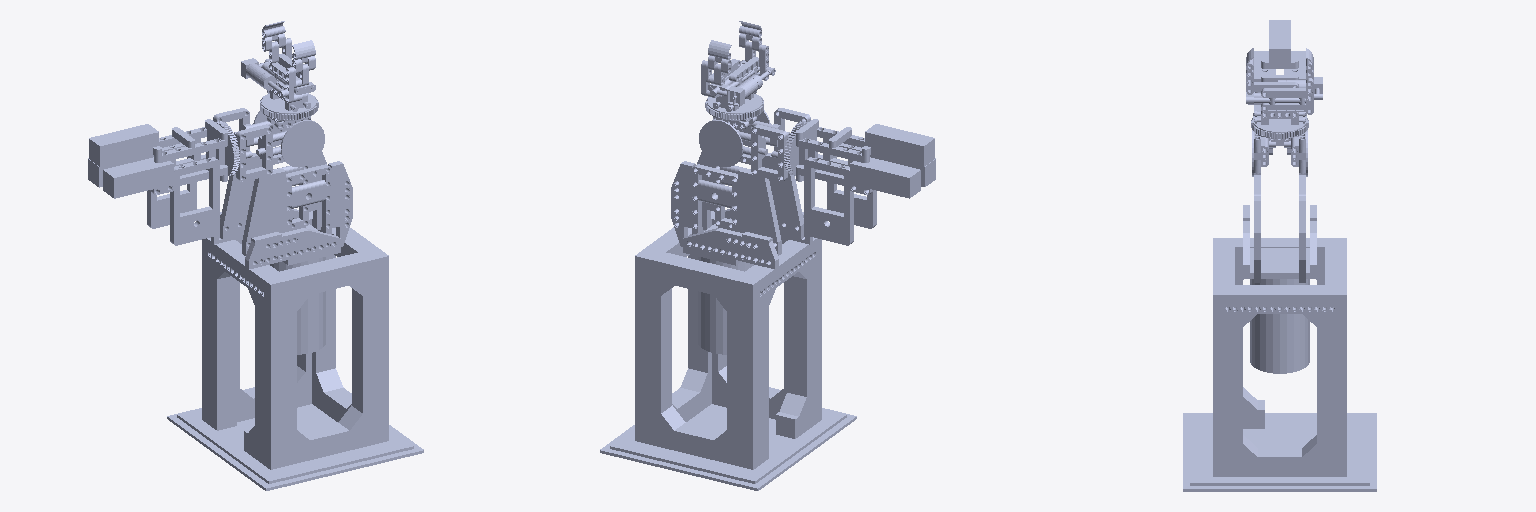
The robot description file, URDF, robot "Ensamblaje":

<!-- This URDF was automatically created by SolidWorks to URDF Exporter! Originally created by Stephen Brawner (brawner@gmail.com) 
     Commit Version: 1.6.0-4-g7f85cfe  Build Version: 1.6.7995.38578
     For more information, please see http://wiki.ros.org/sw_urdf_exporter -->
<robot
  name="Ensamblaje">
  <link
    name="base_link">
    <inertial>
      <origin
        xyz="-0.00143297289781318 0.0972210837988271 -0.000335529749456606"
        rpy="0 0 0" />
      <mass
        value="1.42294386942817" />
      <inertia
        ixx="0.0132216509073776"
        ixy="-0.000158652293415826"
        ixz="2.93305585803312E-05"
        iyy="0.00845457151334573"
        iyz="-3.60565302489095E-05"
        izz="0.0129735358835948" />
    </inertial>
    <visual>
      <origin
        xyz="0 0 0"
        rpy="1.5708 0 1.5708" />
      <geometry>
        <mesh
          filename="package://lego/meshes/visual/base_link.dae" />
      </geometry>
      <material
        name="">
        <color
          rgba="0.792156862745098 0.819607843137255 0.933333333333333 1" />
      </material>
    </visual>
    <collision>
      <origin
        xyz="0 0 0"
        rpy="0 0 3.1416" />
      <geometry>
        <mesh
          filename="package://lego/meshes/collision/base_link.STL" />
      </geometry>
    </collision>
  </link>
  <link
    name="BaseMovil">
    <inertial>
      <origin
        xyz="-1.28282331534233E-16 -0.134703164389748 0.0119579386369056"
        rpy="0 0 0" />
      <mass
        value="0.242867568745409" />
      <inertia
        ixx="0.000808764810710543"
        ixy="-6.07751799568124E-19"
        ixz="1.49951441249629E-18"
        iyy="0.00036925218578822"
        iyz="6.19221462787169E-05"
        izz="0.000663376584846465" />
    </inertial>
    <visual>
      <origin
        xyz="0 0 0"
        rpy="0 -1.5708 3.1416" />
      <geometry>
        <mesh
          filename="package://lego/meshes/visual/BaseMovil.dae" />
      </geometry>
      <material
        name="">
        <color
          rgba="0.792156862745098 0.819607843137255 0.933333333333333 1" />
      </material>
    </visual>
    <collision>
      <origin
        xyz="0 0 0"
        rpy="0 3.1416 0" />
      <geometry>
        <mesh
          filename="package://lego/meshes/collision/BaseMovil.STL" />        
      </geometry>
    </collision>
  </link>
  <joint
    name="Joint1"
    type="revolute">
    <origin
      xyz="0 0 0.1089"
      rpy="-1.5708 0 -1.5708" />
    <parent
      link="base_link" />
    <child
      link="BaseMovil" />
    <axis
      xyz="0 1 0" />
    <limit
      lower="-3.1416"
      upper="3.1416"
      effort="0"
      velocity="-3.1416" />
    <dynamics damping="2.0" friction="0.5"/>            
  </joint>
  <link
    name="Brazo">
    <inertial>
      <origin
        xyz="-2.64184148787479E-08 0.0827271120551161 -1.86361570064797E-08"
        rpy="0 0 0" />
      <mass
        value="0.157608523774481" />
      <inertia
        ixx="0.000429191341144751"
        ixy="2.04753294618092E-10"
        ixz="-1.3155808410927E-10"
        iyy="0.000289324520057458"
        iyz="3.47389335865343E-10"
        izz="0.000639613496156974" />
    </inertial>
    <visual>
      <origin
        xyz="0 0 0"
        rpy="1.5708 0 1.5708" />
      <geometry>
        <mesh
          filename="package://lego/meshes/visual/Brazo.dae" />
      </geometry>
      <material
        name="">
        <color
          rgba="0.792156862745098 0.819607843137255 0.933333333333333 1" />
      </material>
    </visual>
    <collision>
      <origin
        xyz="0 0 0"
        rpy="1.5708 0 0" />
      <geometry>
        <mesh
          filename="package://lego/meshes/collision/Brazo.STL" />
      </geometry>
    </collision>
  </link>
  <joint
    name="Joint2"
    type="revolute">
    <origin
      xyz="0 -0.1801 0"
      rpy="-3.1416 0 -3.1416" />
    <parent
      link="BaseMovil" />
    <child
      link="Brazo" />
    <axis
      xyz="1 0 0" />
    <limit
      lower="0"
      upper="3.1416"
      effort="0"
      velocity="3.141" />
    <dynamics damping="2.0" friction="0.5"/>            
  </joint>
  <link
    name="AnteBrazo">
    <inertial>
      <origin
        xyz="-0.0365667497746823 0.0598651764142495 1.20154548090383E-15"
        rpy="0 0 0" />
      <mass
        value="0.216310329191895" />
      <inertia
        ixx="0.000264607052882941"
        ixy="0.000127628052151096"
        ixz="2.22003743787601E-18"
        iyy="0.000442094670964451"
        iyz="-9.42644384625411E-19"
        izz="0.000578578112922437" />
    </inertial>
    <visual>
      <origin
        xyz="0 0 0"
        rpy="0 0 0" />
      <geometry>
        <mesh
          filename="package://lego/meshes/visual/AnteBrazo.dae" />
      </geometry>
      <material
        name="">
        <color
          rgba="0.792156862745098 0.819607843137255 0.933333333333333 1" />
      </material>
    </visual>
    <collision>
      <origin
        xyz="0 0 0"
        rpy="0 1.5708 0" />
      <geometry>
        <mesh
          filename="package://lego/meshes/collision/AnteBrazo.STL" />
      </geometry>
    </collision>
  </link>
  <joint
    name="Joint3"
    type="revolute">
    <origin
      xyz="0 0 0.136"
      rpy="3.1416 3.1416 0" />
    <parent
      link="Brazo" />
    <child
      link="AnteBrazo" />
    <axis
      xyz="-1 0 0" />
    <limit
      lower="-3.1416"
      upper="0"
      effort="0"
      velocity="3.1416" />
    <dynamics damping="2.0" friction="0.5"/>      
  </joint>
  <link
    name="Munieca">
    <inertial>
      <origin
        xyz="0.0452141820603019 0.000225887659027313 0.00200000000000258"
        rpy="0 0 0" />
      <mass
        value="0.0758287405516436" />
      <inertia
        ixx="4.76404035653544E-05"
        ixy="7.14512909325067E-07"
        ixz="3.70854664888897E-19"
        iyy="0.000121899293592062"
        iyz="-1.61046859911085E-20"
        izz="0.000101681570321121" />
    </inertial>
    <visual>
      <origin
        xyz="0 0 0"
        rpy="0 0 0" />
      <geometry>
        <mesh
          filename="package://lego/meshes/visual/Munieca.dae" />
      </geometry>
      <material
        name="">
        <color
          rgba="0.792156862745098 0.819607843137255 0.933333333333333 1" />
      </material>
    </visual>
    <collision>
      <origin
        xyz="-0.002 0 0"
        rpy="0 1.5708 0" />
      <geometry>
        <mesh
          filename="package://lego/meshes/collision/Munieca.STL" />  
      </geometry>
    </collision>
  </link>
  <joint
    name="Joint4"
    type="revolute">
    <origin
      xyz="0 0.064 -0.045"
      rpy="0 0 0" />
    <parent
      link="AnteBrazo" />
    <child
      link="Munieca" />
    <axis
      xyz="0 0 1" />
    <limit
      lower="-1.5708"
      upper="1.5708"
      effort="0"
      velocity="1.5708" />
    <dynamics damping="2.0" friction="0.5"/>      
  </joint>
  <link
    name="Mano">
    <inertial>
      <origin
        xyz="-5.20417042793042E-17 0.00199999999999855 0.0208560522689041"
        rpy="0 0 0" />
      <mass
        value="0.0133403749579747" />
      <inertia
        ixx="1.82483410767168E-06"
        ixy="2.17296469508656E-22"
        ixz="1.87218350196537E-20"
        iyy="2.56171126779421E-06"
        iyz="5.05134272654301E-22"
        izz="3.15031472875163E-06" />
    </inertial>
    <visual>
      <origin
        xyz="0 0 0"
        rpy="0 -1.5708 0" />
      <geometry>
        <mesh
          filename="package://lego/meshes/visual/Mano.dae" />
      </geometry>
      <material
        name="">
        <color
          rgba="0.792156862745098 0.819607843137255 0.933333333333333 1" />
      </material>
    </visual>
    <collision>
      <origin
        xyz="0 0 0"
        rpy="0 0 0" />
      <geometry>
        <mesh
          filename="package://lego/meshes/collision/Mano.STL" />          
      </geometry>
    </collision>
  </link>
  <joint
    name="Joint5"
    type="revolute">
    <origin
      xyz="0 0 -0.083"
      rpy="1.5708 1.5708 3.1416" />
    <parent
      link="Munieca" />
    <child
      link="Mano" />
    <axis
      xyz="0 1 0" />
    <limit
      lower="0"
      upper="3.1416"
      effort="0"
      velocity="3.1416" />
    <dynamics damping="2.0" friction="0.5"/>            
  </joint>
  <link
    name="Pinza">
    <inertial>
      <origin
        xyz="0.0178763129048624 -0.00468246862579161 0"
        rpy="0 0 0" />
      <mass
        value="0.0460205290916002" />
      <inertia
        ixx="2.65578193912434E-05"
        ixy="3.68997691913354E-06"
        ixz="-3.68478392364538E-06"
        iyy="2.66633549930463E-05"
        iyz="3.76555413744802E-06"
        izz="1.92865208127899E-05" />
    </inertial>
    <visual>
      <origin
        xyz="0 0 0"
        rpy="0 1.5708 3.1416" />
      <geometry>
        <mesh
          filename="package://lego/meshes/visual/Pinza.dae" />
      </geometry>
      <material
        name="">
        <color
          rgba="0.792156862745098 0.819607843137255 0.933333333333333 1" />
      </material>
    </visual>
    <collision>
      <origin
        xyz="0 0 0"
        rpy="3.1416 0 0" />
      <geometry>
        <mesh
          filename="package://lego/meshes/collision/Pinza.STL" />
      </geometry>
    </collision>
  </link>
  <joint
    name="Joint6"
    type="revolute">
    <origin
      xyz="0 0 0.029"
      rpy="1.5708 -1.5708 0" />
    <parent
      link="Mano" />
    <child
      link="Pinza" />
    <axis
      xyz="1 0 0" />
    <limit
      lower="-1.5708"
      upper="1.5708"
      effort="0"
      velocity="1.5708" />
  <dynamics damping="2.0" friction="0.5"/>            
  </joint>
  <link
    name="Dedo1">
    <inertial>
      <origin
        xyz="0.0178763129048624 -0.00468246862579161 0.00467588148839063"
        rpy="0 0 0" />
      <mass
        value="0.0460205290916002" />
      <inertia
        ixx="2.65578193912434E-05"
        ixy="3.68997691913354E-06"
        ixz="-3.68478392364537E-06"
        iyy="2.66633549930463E-05"
        iyz="3.76555413744802E-06"
        izz="1.92865208127899E-05" />
    </inertial>
    <visual>
      <origin
        xyz="0 0.00846 0"
        rpy="-1.5708 3.1416 -1.5708" />
      <geometry>
        <mesh
          filename="package://lego/meshes/visual/Dedo1.dae" />
      </geometry>
      <material
        name="">
        <color
          rgba="0.792156862745098 0.819607843137255 0.933333333333333 1" />
      </material>
    </visual>
    <collision>
      <origin
        xyz="0 0.008 0.024"
        rpy="0 -1.5708 1.5708" />
      <geometry>
        <mesh
          filename="package://lego/meshes/collision/Dedo2.STL" />        
      </geometry>
    </collision>
  </link>
  <joint
    name="Joint7"
    type="prismatic">
    <origin
      xyz="0.035 0 -0.008"
      rpy="0 0 0" />
    <parent
      link="Pinza" />
    <child
      link="Dedo1" />
    <axis
      xyz="0 0 -1" />
    <limit
      lower="0"
      upper="0.016"
      effort="0"
      velocity="0.016" />
  </joint>
  <link
    name="Dedo2">
    <inertial>
      <origin
        xyz="0.00419946676985444 -0.0109693363746826 0.00161600585191003"
        rpy="0 0 0" />
      <mass
        value="0.0118311180278391" />
      <inertia
        ixx="3.6595012348337E-06"
        ixy="1.53512779026541E-06"
        ixz="-1.60655311667269E-07"
        iyy="3.58310500961816E-06"
        iyz="5.82152912022735E-07"
        izz="6.23211599514572E-06" />
    </inertial>
    <visual>
      <origin
        xyz="0 -0.008 -0.008"
        rpy="0 1.5708 0" />
      <geometry>
        <mesh
          filename="package://lego/meshes/visual/Dedo2.dae" />
      </geometry>
      <material
        name="">
        <color
          rgba="0.792156862745098 0.819607843137255 0.933333333333333 1" />
      </material>
    </visual>
    <collision>
      <origin
        xyz="0 0.016 -0.008"
        rpy="0 0 1.570" />
      <geometry>
        <mesh
          filename="package://lego/meshes/collision/Dedo2.STL" />
      </geometry>
    </collision>
  </link>
  <joint
    name="Joint8"
    type="prismatic">
    <origin
      xyz="0.035 0 0"
      rpy="1.5708 3.1416 3.1416" />
    <parent
      link="Pinza" />
    <child
      link="Dedo2" />
    <axis
      xyz="0 -1 0" />
    <limit
      lower="0"
      upper="0.016"
      effort="0"
      velocity="0.016" />
  </joint>


</robot>

--- Facts derived from the render (not from the file) ---
Views: 3 orthographic renders of the robot side by side, from view 1: azimuth 30°, elevation 25°; view 2: azimuth 150°, elevation 25°; view 3: azimuth 270°, elevation 25°.
Model Ensamblaje with 9 links and 8 joints (6 revolute, 2 prismatic), rooted at base_link, posed all joints at 0.
Visible links, largest first — view 1: base_link, BaseMovil, AnteBrazo, Munieca, Pinza, Dedo1, Dedo2; view 2: base_link, BaseMovil, AnteBrazo, Munieca, Pinza, Dedo1, Dedo2; view 3: base_link, BaseMovil, AnteBrazo, Pinza, Dedo2, Munieca, Dedo1.
Link boxes in pixels (left/top/right/bottom): base_link: left=167, top=211, right=423, bottom=490; BaseMovil: left=211, top=152, right=352, bottom=354; AnteBrazo: left=88, top=119, right=227, bottom=245; Munieca: left=213, top=108, right=324, bottom=181; Pinza: left=241, top=58, right=318, bottom=119; Dedo1: left=268, top=40, right=315, bottom=102; Dedo2: left=262, top=21, right=298, bottom=77; base_link: left=600, top=211, right=856, bottom=490; BaseMovil: left=671, top=152, right=812, bottom=354; AnteBrazo: left=796, top=119, right=935, bottom=245; Munieca: left=699, top=108, right=810, bottom=181; Pinza: left=705, top=60, right=763, bottom=119; Dedo1: left=729, top=21, right=775, bottom=83; Dedo2: left=701, top=40, right=740, bottom=97; base_link: left=1183, top=238, right=1376, bottom=491; BaseMovil: left=1243, top=173, right=1316, bottom=373; AnteBrazo: left=1254, top=20, right=1305, bottom=81; Pinza: left=1246, top=77, right=1322, bottom=138; Dedo2: left=1261, top=48, right=1313, bottom=114; Munieca: left=1252, top=105, right=1307, bottom=176; Dedo1: left=1246, top=48, right=1298, bottom=104.
Bounding box of the posed robot: 0.34 × 0.208 × 0.469 m (x, y, z).
8 mesh visuals loaded from 9 distinct referenced files (8 Collada DAE); not drawn: 1 (reference not matched to a file when rendering).
